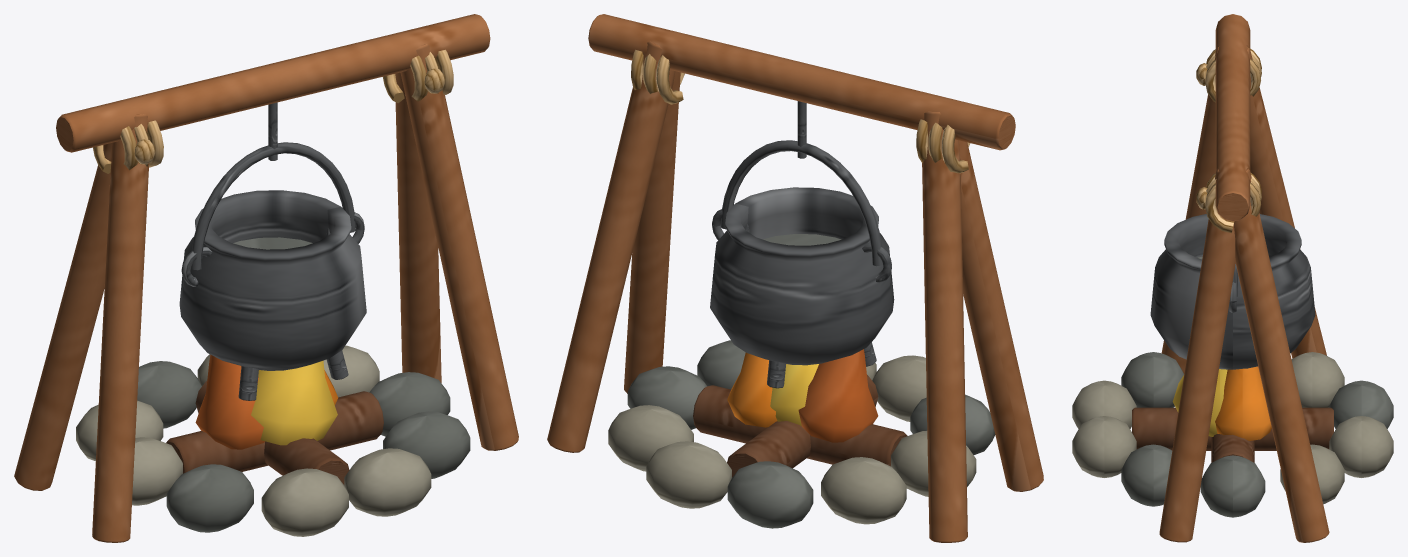
Rendered from SM_CookingStation.glb.
3 renders of one model, left to right at view 1: azimuth 30°, elevation 25°; view 2: azimuth 150°, elevation 25°; view 3: azimuth 270°, elevation 25°, orthographic. The views are drawn at different scales.
Parts seen in each view (by area): view 1: SM_CookingStation; view 2: SM_CookingStation; view 3: SM_CookingStation.
Boxes of the visible parts, box(x1,y1,x2,y2) form: SM_CookingStation: box(14, 14, 518, 542); SM_CookingStation: box(547, 14, 1043, 542); SM_CookingStation: box(1072, 14, 1393, 542).
Bounding box in the file's own units: 1.87 × 1.71 × 1.4.
Materials: 1 (1 with a texture image).
